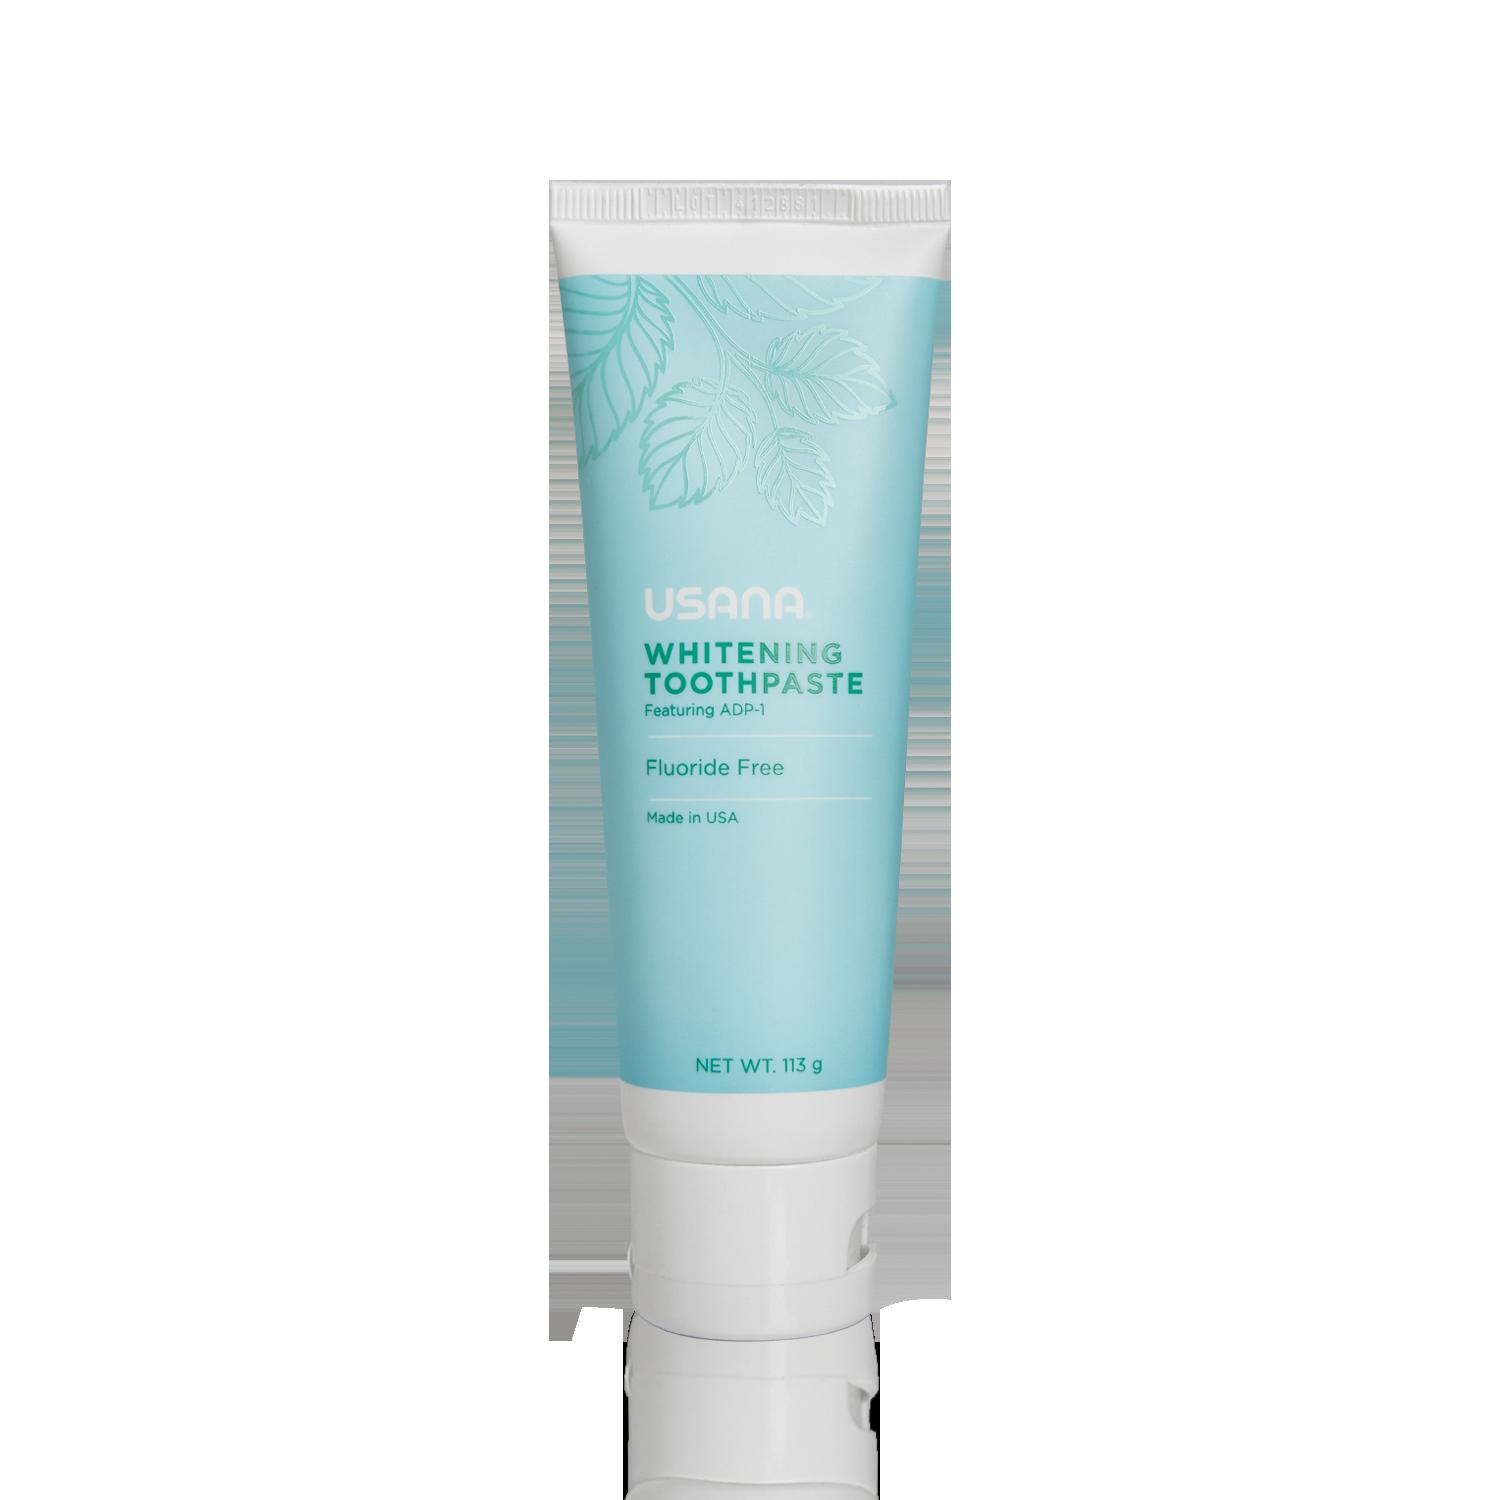toothpaste: (511, 143, 1011, 1372)
